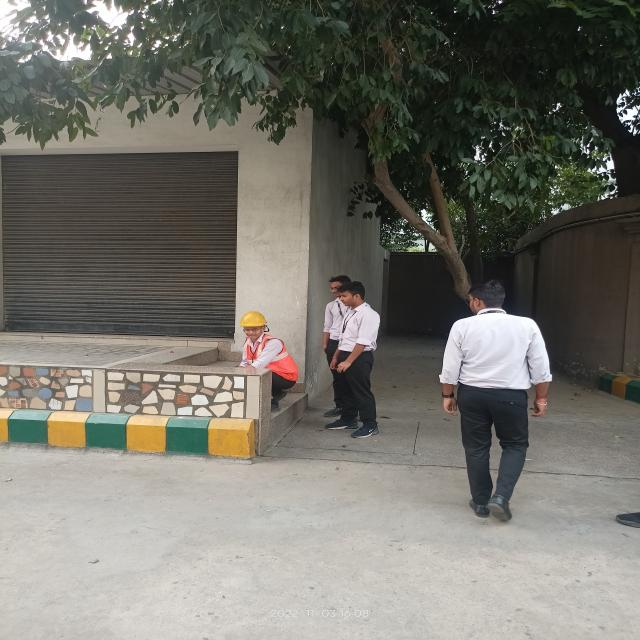safe: (236, 312, 302, 416)
unsafe: (439, 283, 550, 526), (338, 285, 386, 445)
